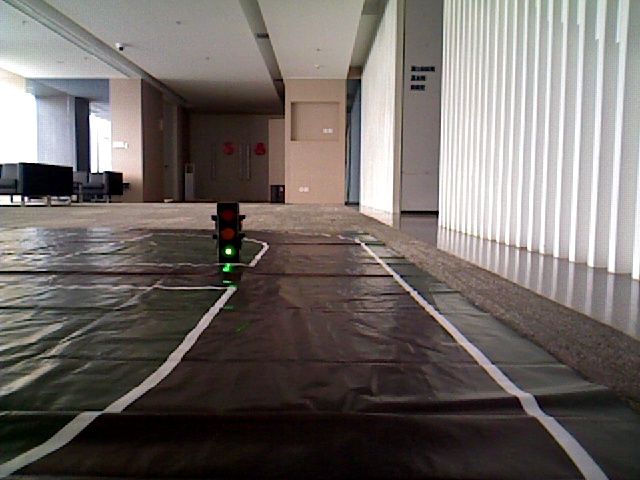green: (216, 212, 237, 260)
